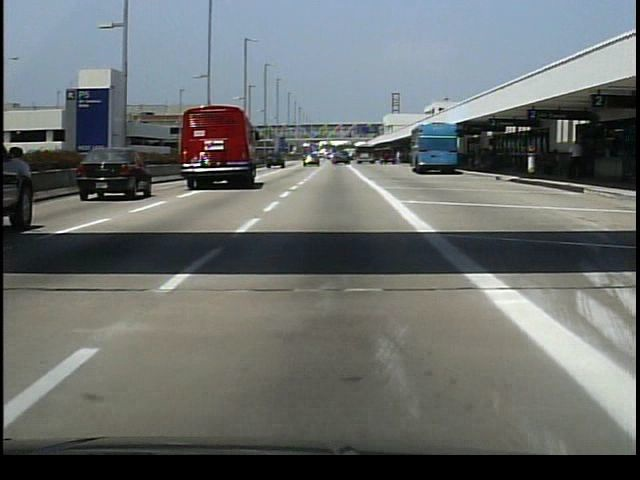person: (568, 137, 587, 183)
